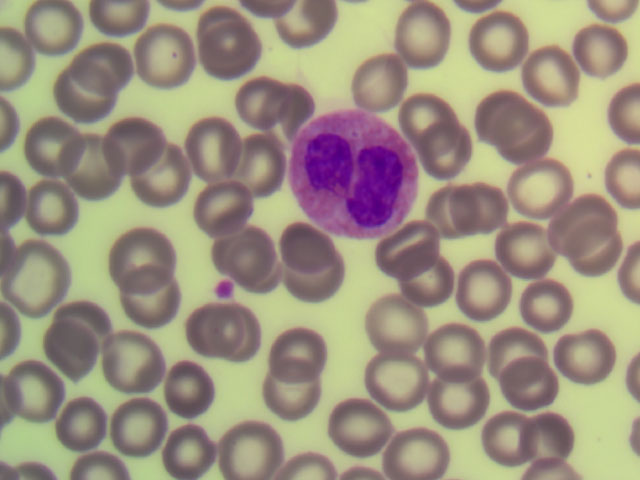Platelets: (211, 280, 236, 299)
RBC: (3, 238, 74, 312), (16, 170, 87, 244), (61, 136, 132, 210), (92, 110, 163, 184), (123, 134, 194, 208), (217, 420, 281, 480), (155, 420, 219, 480), (384, 420, 448, 480), (74, 38, 138, 97), (58, 64, 122, 123), (127, 31, 191, 90), (194, 6, 258, 65), (220, 67, 284, 126), (251, 82, 315, 141), (181, 116, 245, 175), (224, 143, 288, 202), (189, 173, 253, 232), (208, 221, 272, 280), (113, 228, 177, 287), (114, 269, 178, 328), (57, 289, 121, 348), (39, 320, 103, 379), (7, 361, 71, 420), (45, 388, 109, 447), (101, 397, 165, 456), (160, 350, 224, 409), (101, 335, 165, 394), (171, 298, 235, 357), (215, 310, 279, 369), (263, 317, 327, 376), (256, 369, 320, 428), (326, 397, 390, 456), (356, 352, 420, 411), (363, 296, 427, 355), (389, 258, 453, 317), (371, 216, 435, 275), (407, 182, 471, 241), (280, 248, 344, 307), (278, 217, 342, 276), (445, 180, 509, 239), (418, 128, 482, 187), (392, 89, 456, 148), (347, 57, 411, 116), (391, 4, 455, 63), (468, 12, 532, 71), (517, 44, 581, 103), (571, 24, 635, 83), (501, 115, 565, 174), (471, 89, 535, 148), (503, 152, 567, 211), (495, 220, 559, 279), (453, 255, 517, 314), (515, 273, 579, 332), (491, 319, 555, 378), (505, 350, 569, 409), (551, 325, 615, 384), (464, 405, 528, 464), (509, 407, 573, 466), (418, 369, 482, 428), (426, 316, 490, 375), (20, 1, 84, 59), (282, 1, 346, 59), (22, 113, 82, 174)
WBC: (289, 105, 421, 247)
